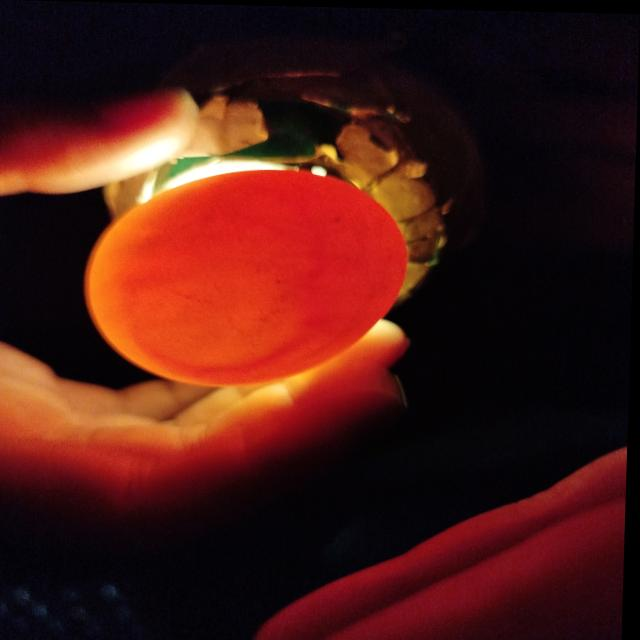Gema Quebrada: (122, 169, 409, 385)
